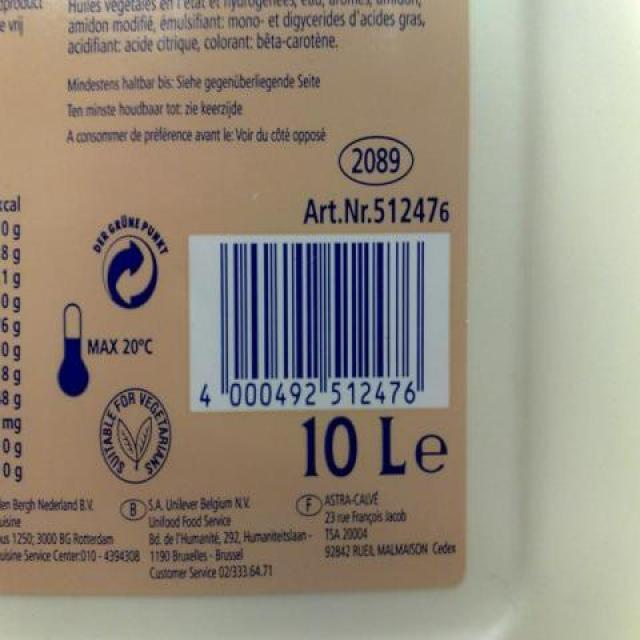Barcode: (189, 233, 448, 411)
